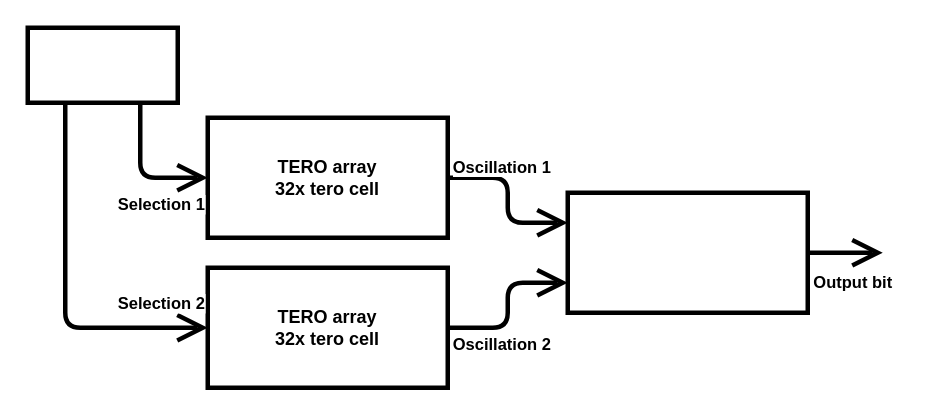
The diagram is 935 pixels wide and 416 high, and some of its shapes have lost their labels. Each missing label, with the centre of its shape:
"Comparator" goes at (687,252).
"LSFR" goes at (102,64).
